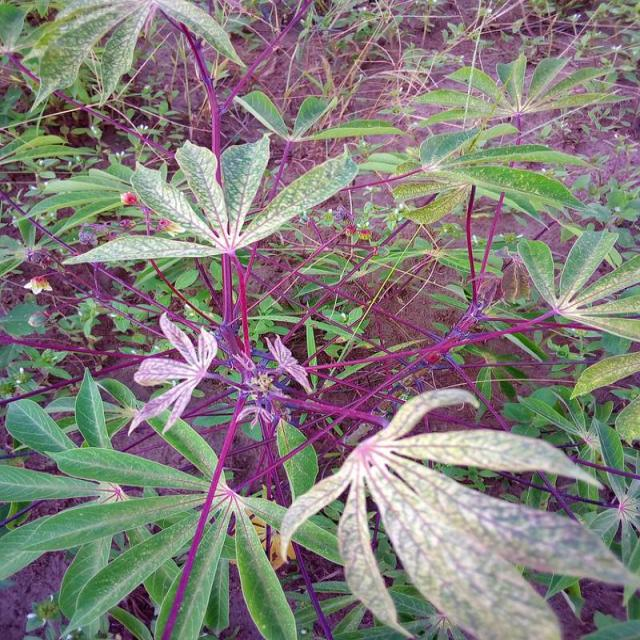cassava leaf: (0, 3, 638, 638), (276, 385, 638, 638)
